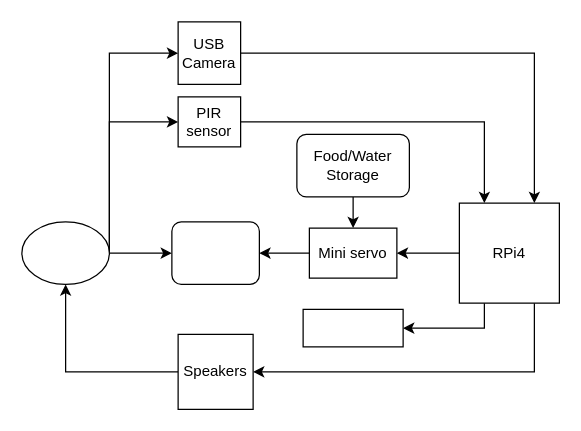
The diagram is 581 pixels wide and 431 high, and some of its shapes have lost their labels. The centre of each missing label's shape, as x and y in pixels:
Bowl/Dish: [215,252]
Dog: [65,252]
LCD Display: [352,327]
